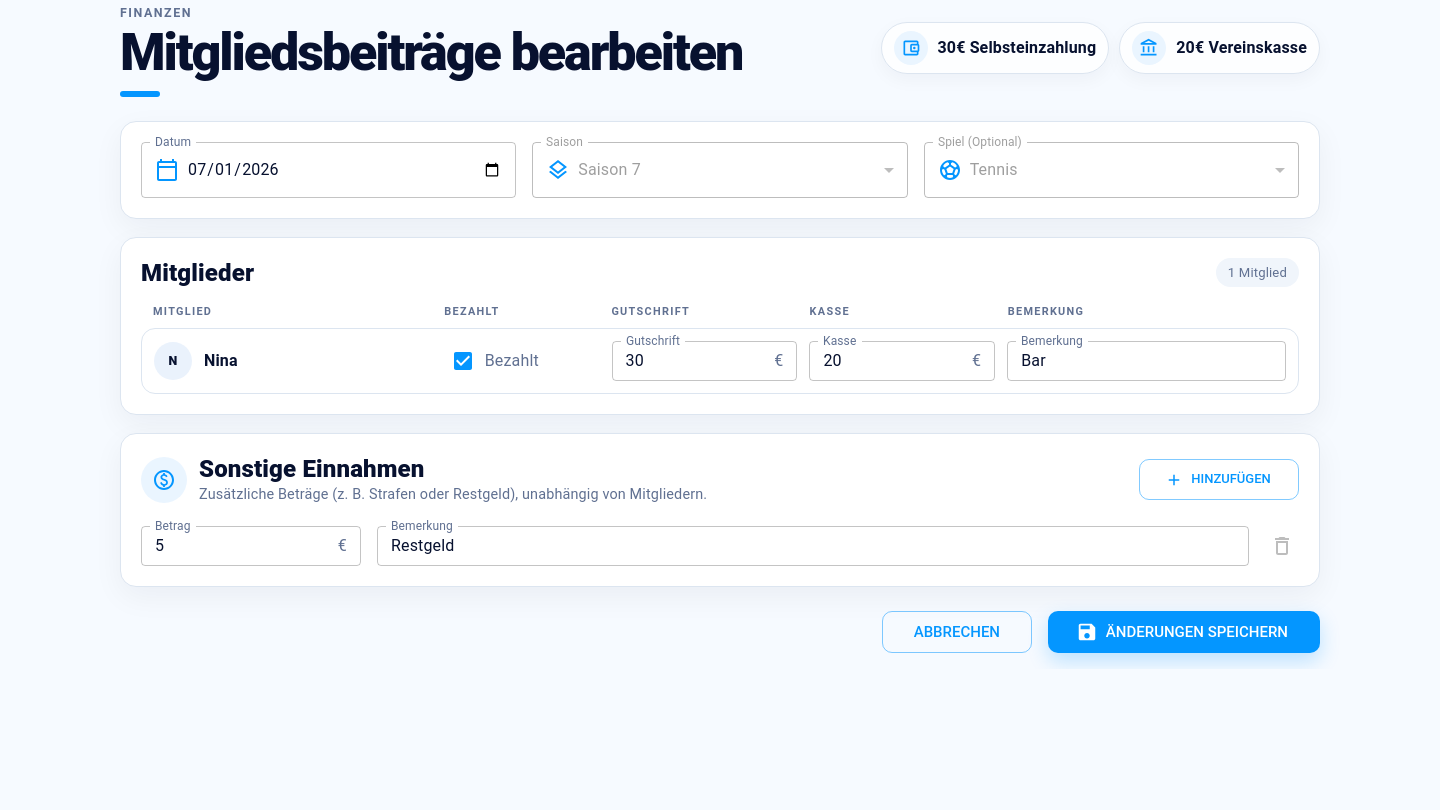
Test: BulkDepositPage edit mode › keeps the prefilled form when replacement fails
What coordinates should you click on to do the following:
click the button "Änderungen speichern"
I would click on:
 (1184, 632)
Its box is [1048,610,1320,653].
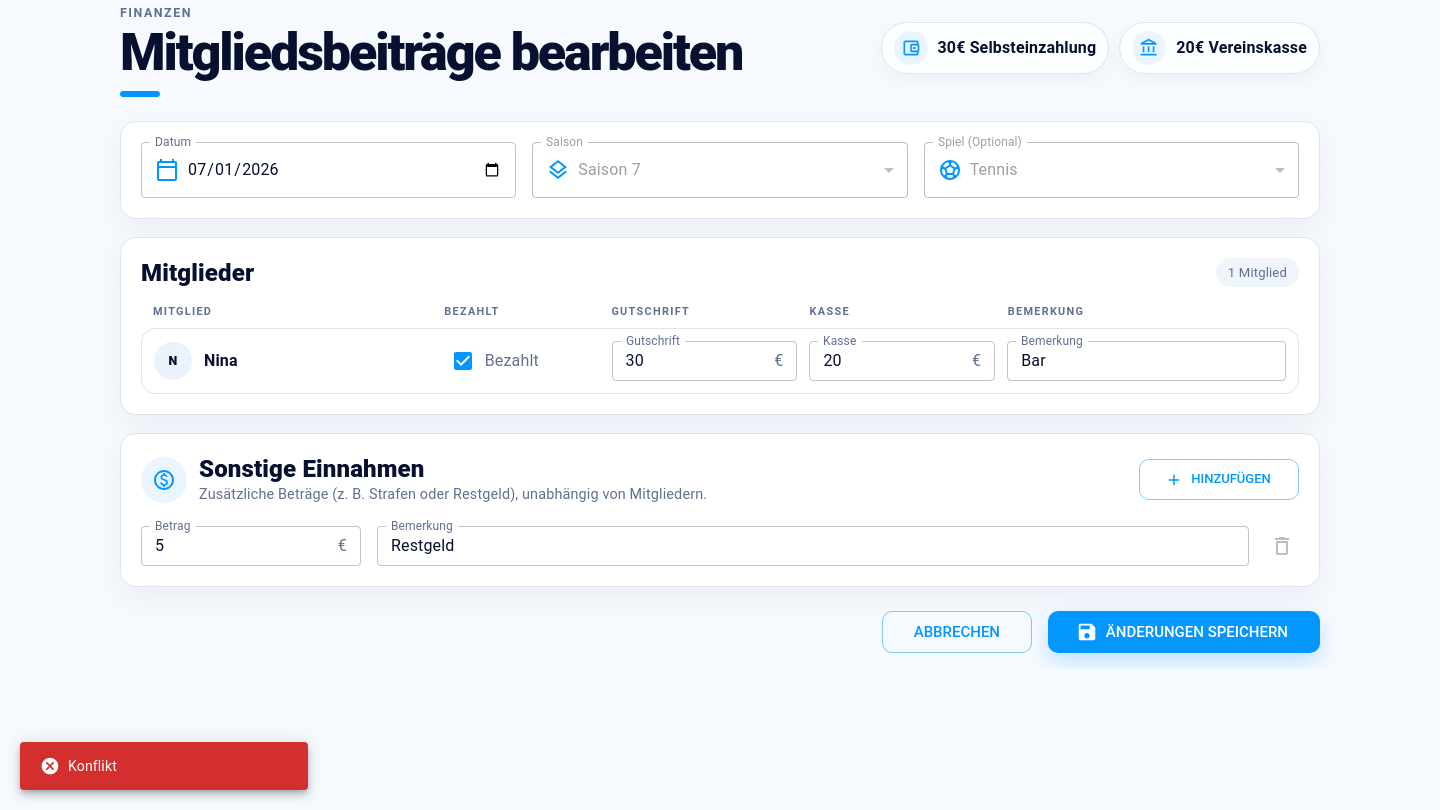
Expected: the number field labelled "Gutschrift" holds "30", [612,341,766,381]
Expected: the text "Konflikt" is shown, [40,756,117,776]
